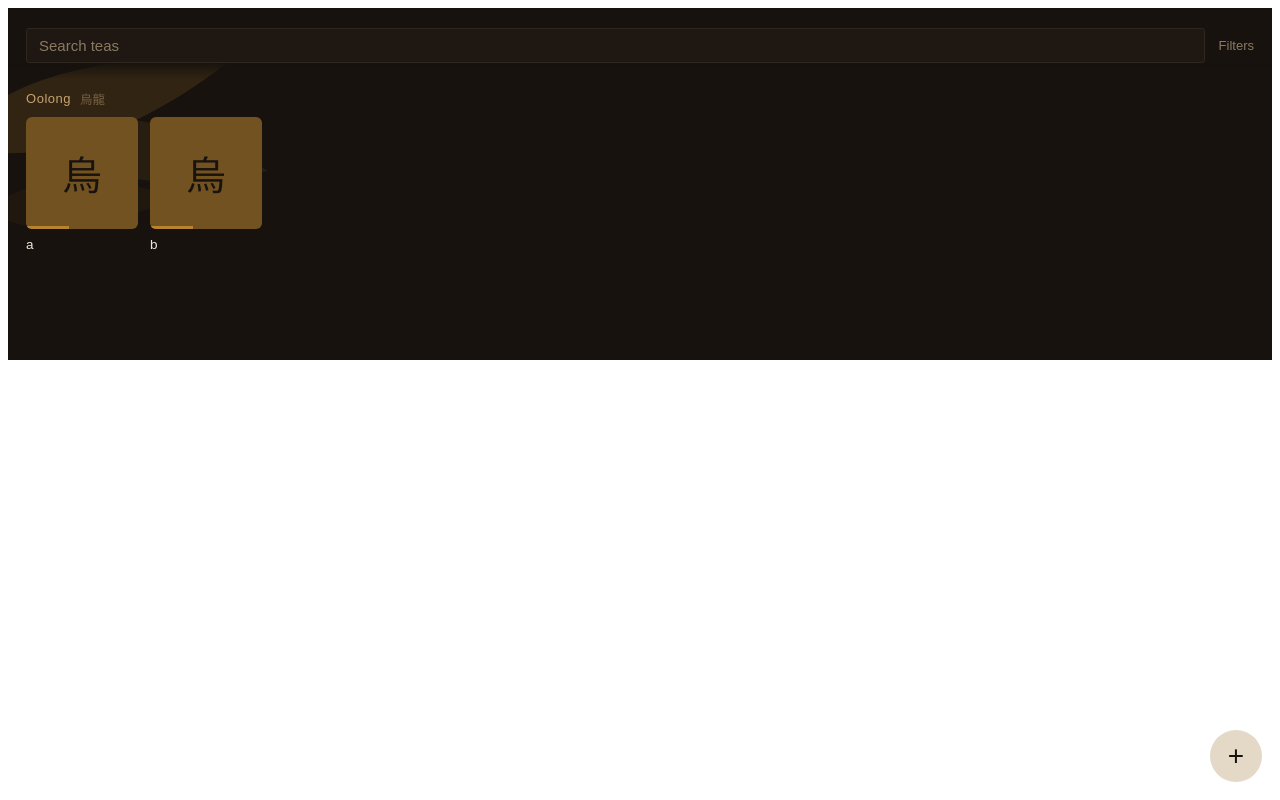
Scenario: CabinetPage › filters › filters by the country of the tea's almanac entry
This screenshot has width=1280, height=800.
Click the button with test id "cabinet-filters": x=1236, y=46 [1219,38,1254,53]
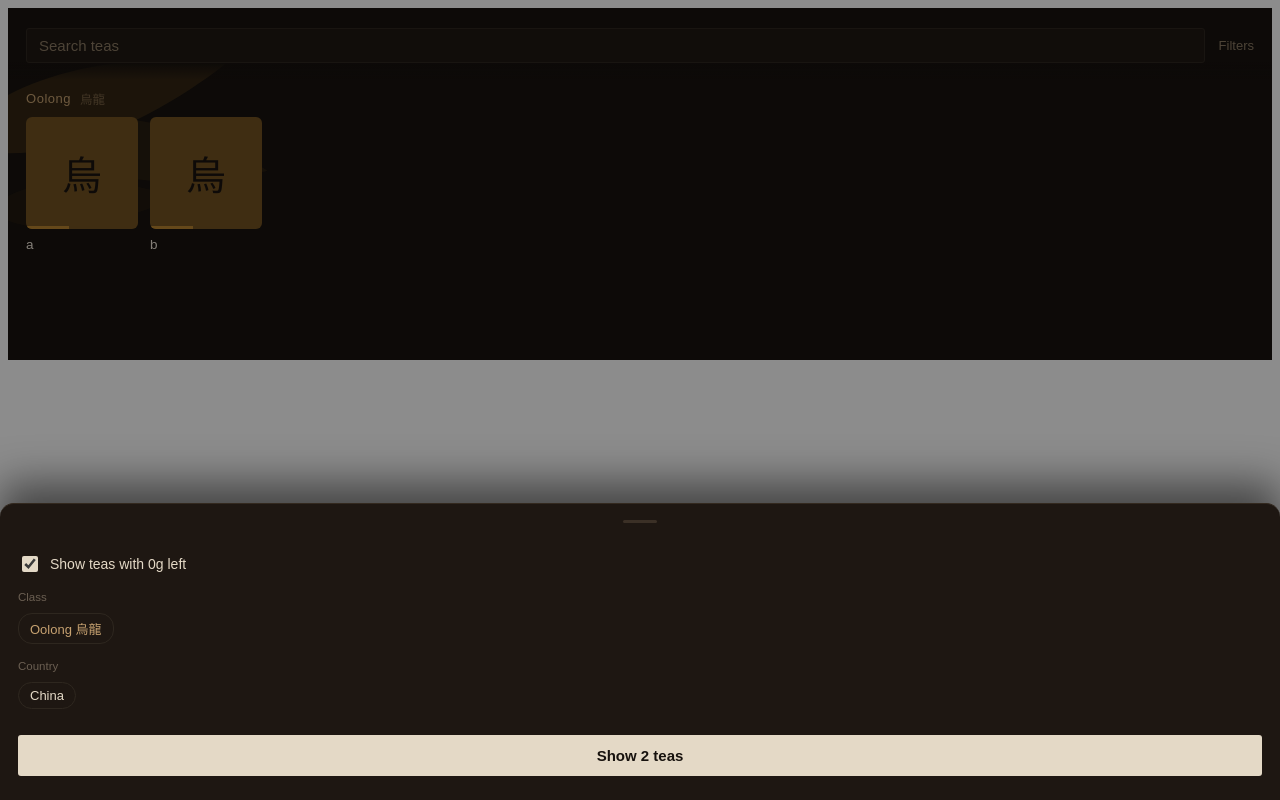
Click the button with test id "filter-country-China": x=47, y=696 [18,682,76,709]
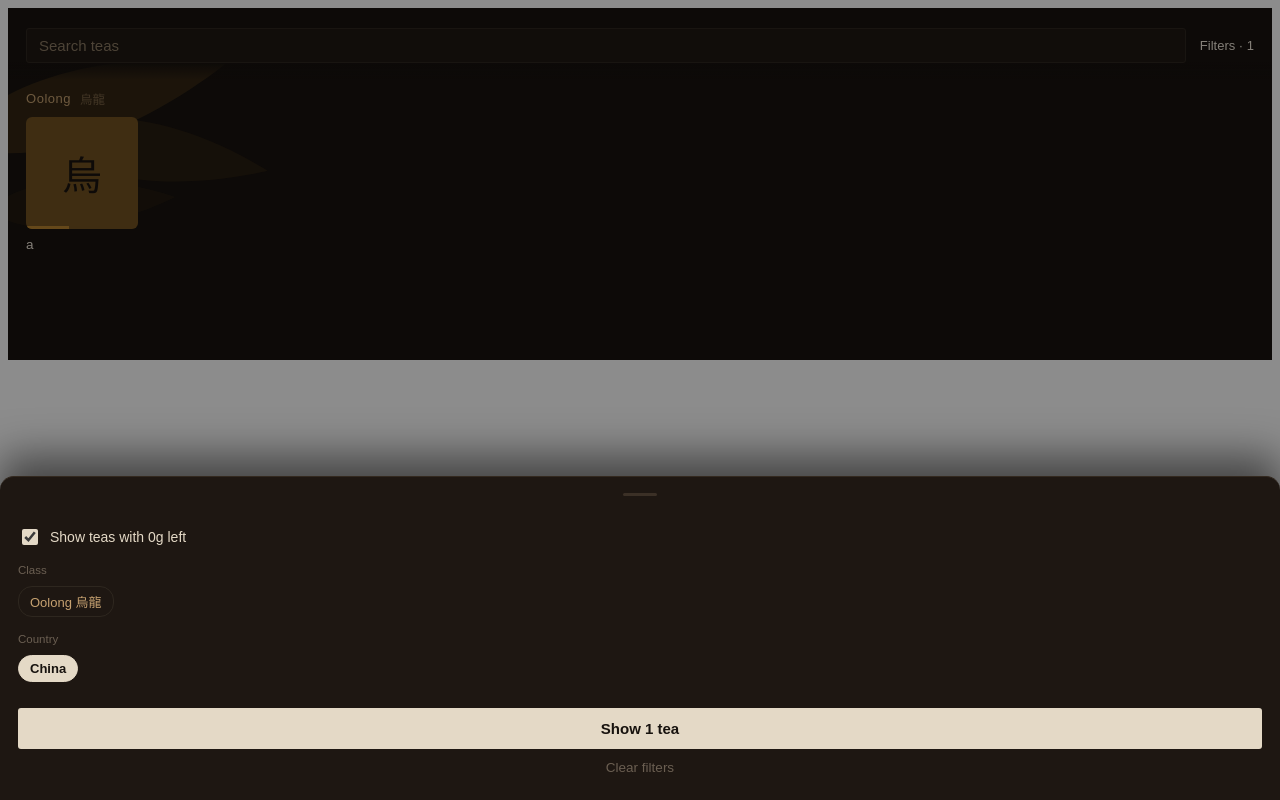
Expected: the button with test id "filters-done" reads "Show 1 tea", [18,708,1262,749]
